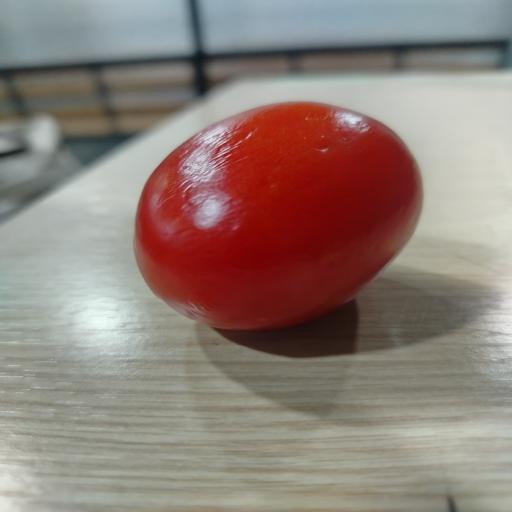overipe: (134, 102, 422, 329)
